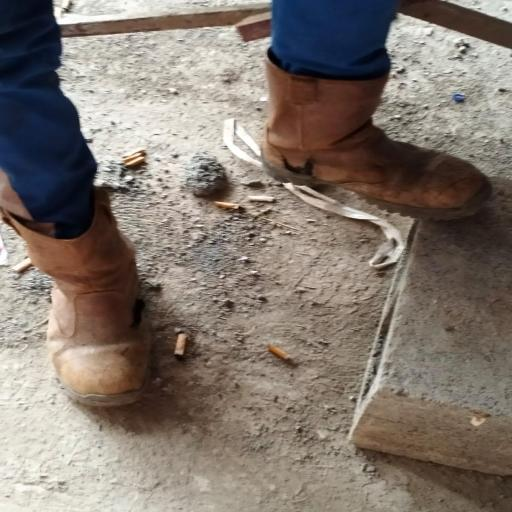safety_shoe: (245, 47, 500, 224), (3, 204, 151, 411)
